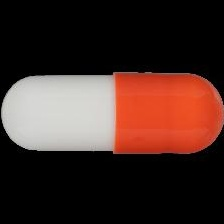21695-821: (0, 0, 224, 224)
